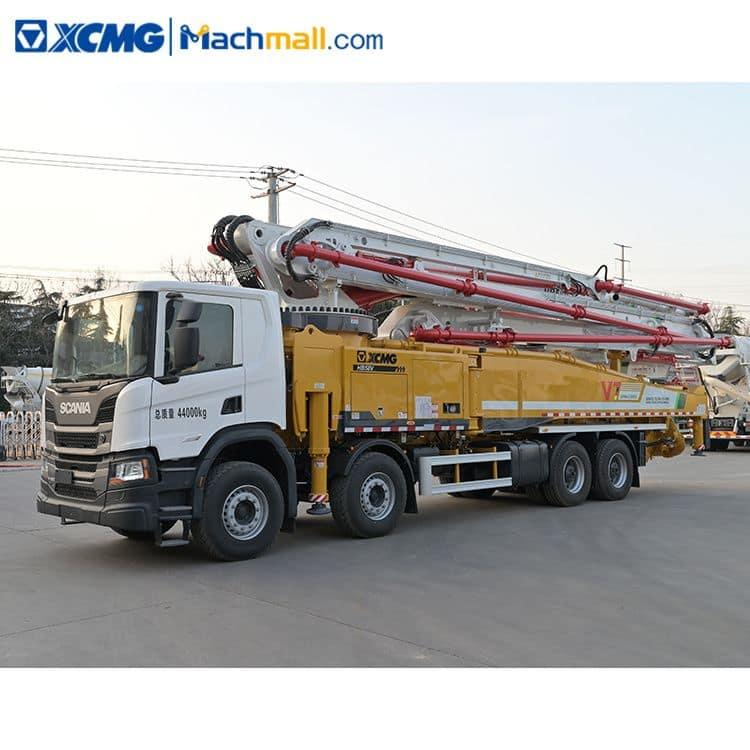truck: (34, 215, 733, 564)
